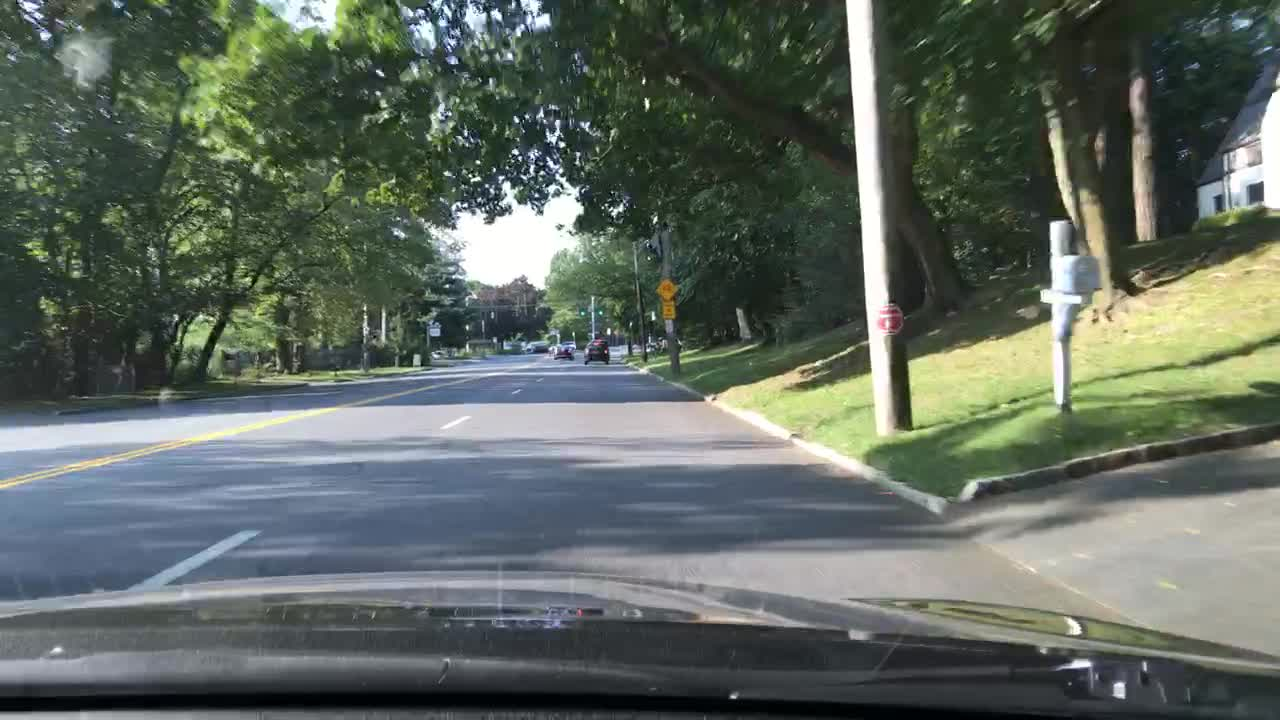car: (582, 345, 611, 364), (523, 339, 552, 353), (590, 338, 612, 356), (553, 345, 576, 359), (562, 338, 579, 353), (547, 342, 563, 354), (430, 347, 446, 359)
traffic light: (576, 306, 589, 319), (596, 305, 607, 317), (489, 310, 497, 319)
traffic sign: (876, 304, 904, 335), (653, 278, 679, 299), (661, 300, 678, 320), (427, 324, 442, 337)
